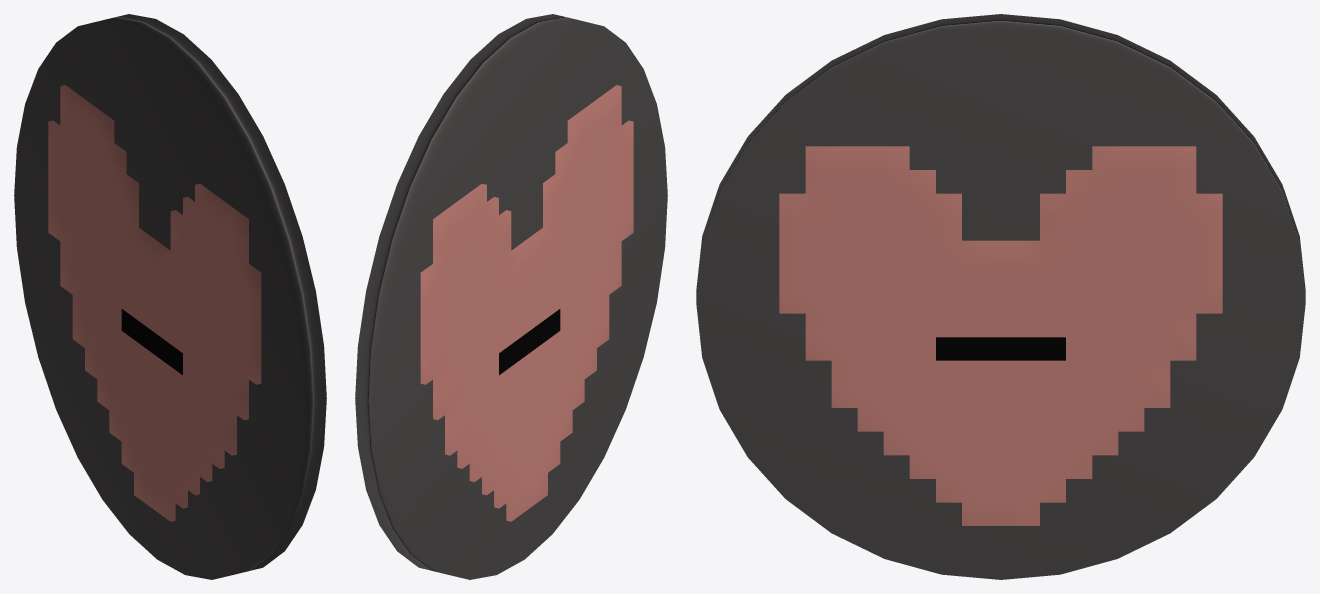
Rendered from maxhealthicon3 1.fbx.
3 renders of one model, left to right at view 1: azimuth 30°, elevation 25°; view 2: azimuth 150°, elevation 25°; view 3: azimuth 270°, elevation 25°, orthographic. The views are drawn at different scales.
Parts seen in each view (by area): view 1: Cylinder; view 2: Cylinder; view 3: Cylinder.
Boxes of the visible parts, x1,y1,x2,y2 form: Cylinder: (14,14,326,579); Cylinder: (355,14,667,579); Cylinder: (696,14,1305,579).
Size of the model in its own units: 26.1 by 368 by 368.
